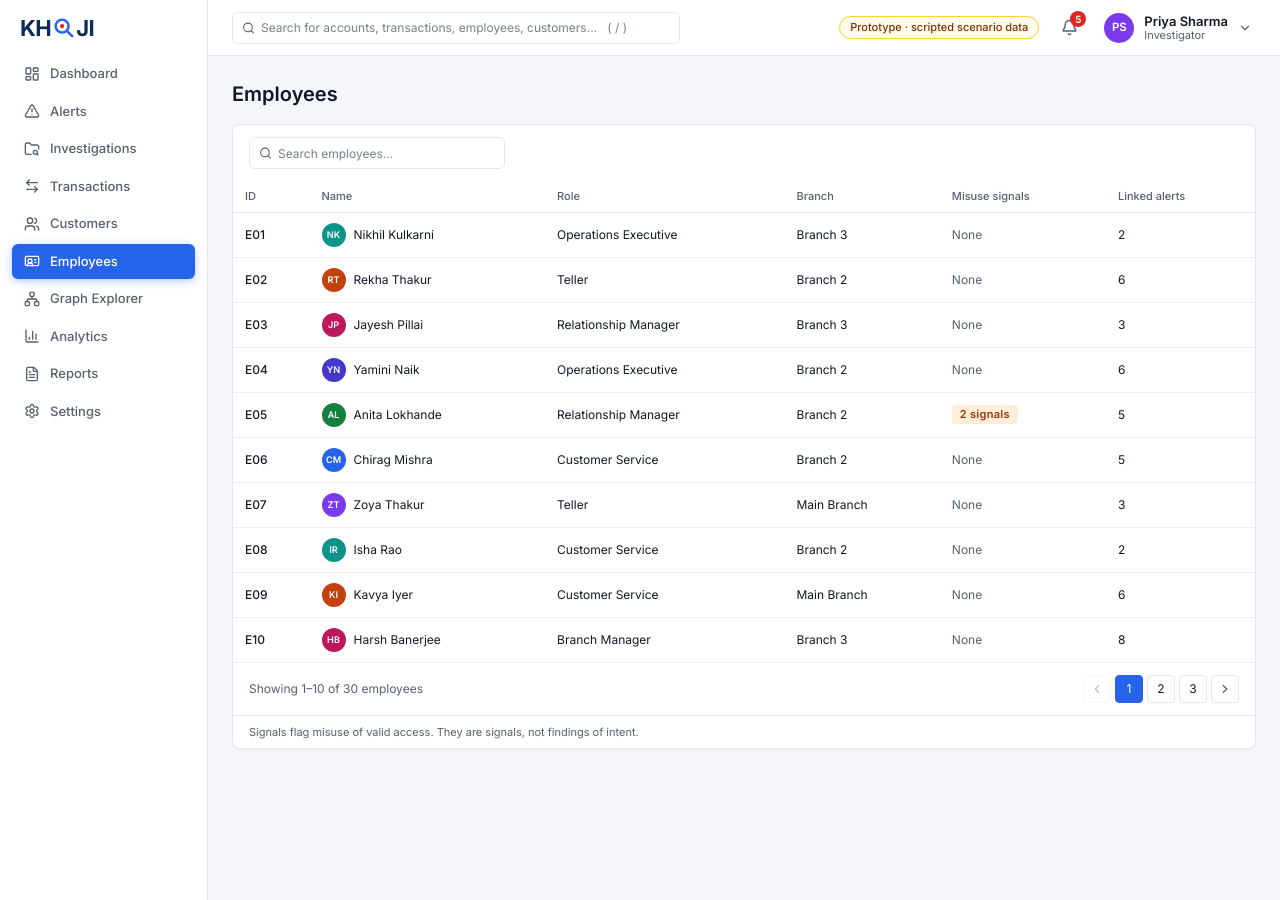
Scenario: Employees › searches by name
Type "Rohit" into the search field labelled "Search employees" at [377, 153], box x1=249 y1=137 x2=505 y2=169
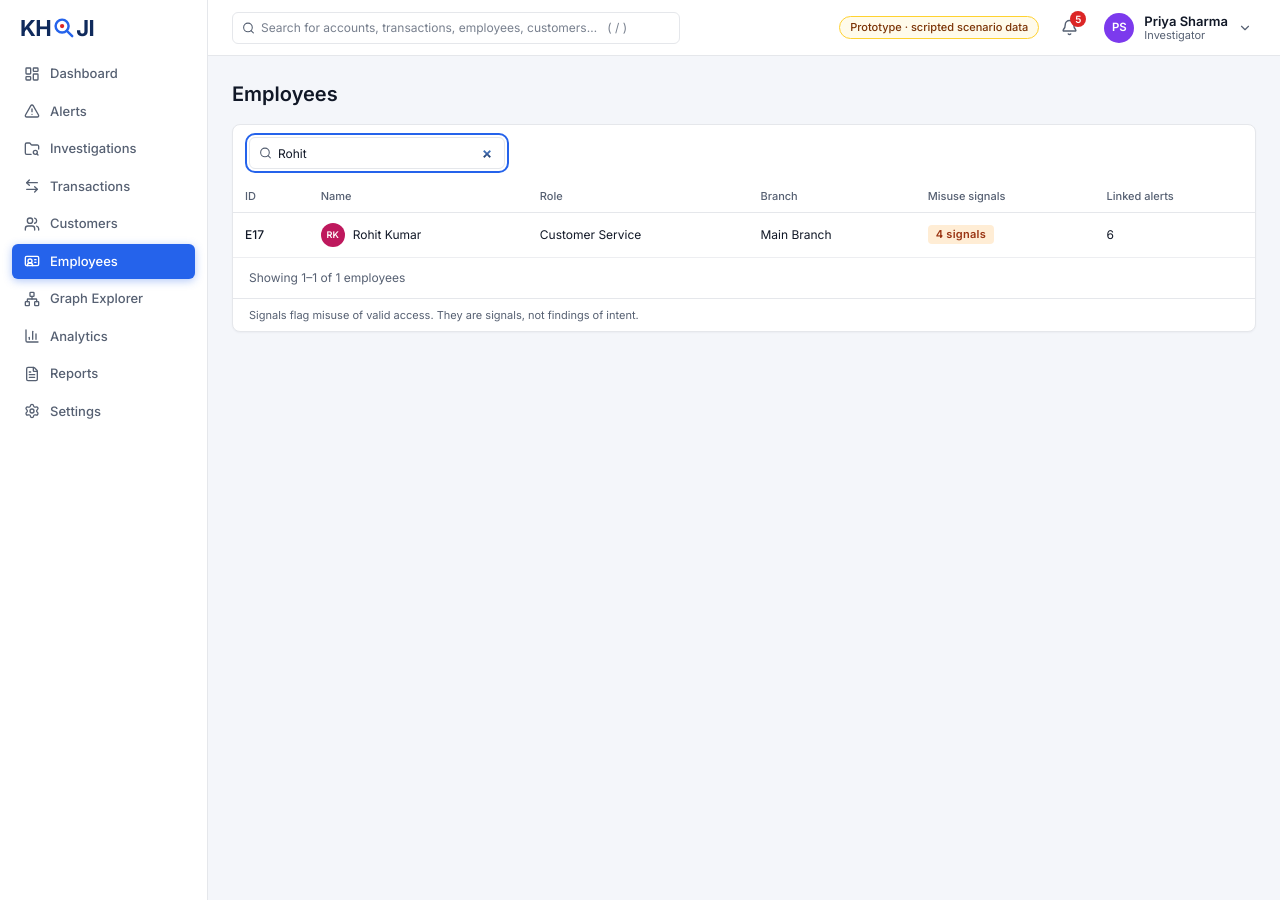
Now the text with test id "emp-showing" shows "of 1 employees", box x1=249 y1=270 x2=405 y2=285
